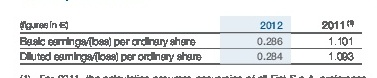table: (0, 0, 377, 78)
